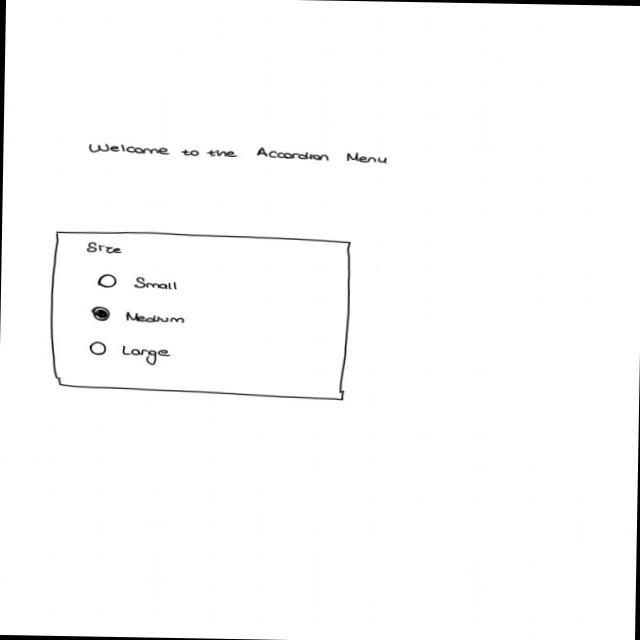container: (48, 229, 353, 403)
label: (87, 142, 390, 166), (85, 241, 127, 257)
radio: (87, 341, 174, 368), (91, 306, 191, 328), (95, 274, 183, 294)
